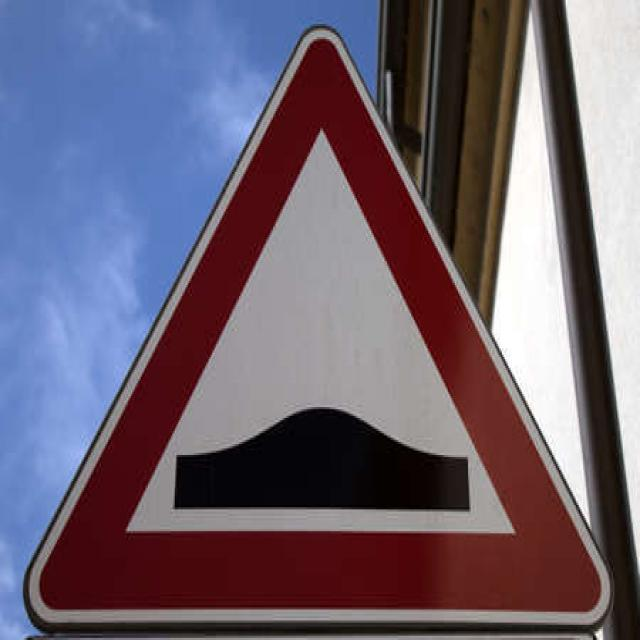hump: (24, 13, 626, 640)
